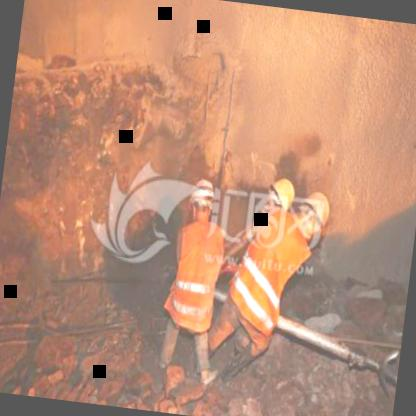helmet: (287, 188, 331, 245), (263, 170, 300, 232), (184, 176, 218, 222)
